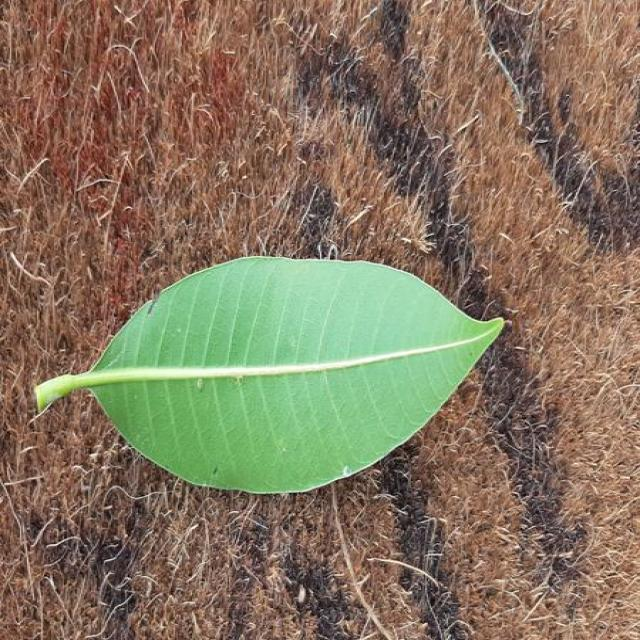mango: (37, 258, 503, 493)
